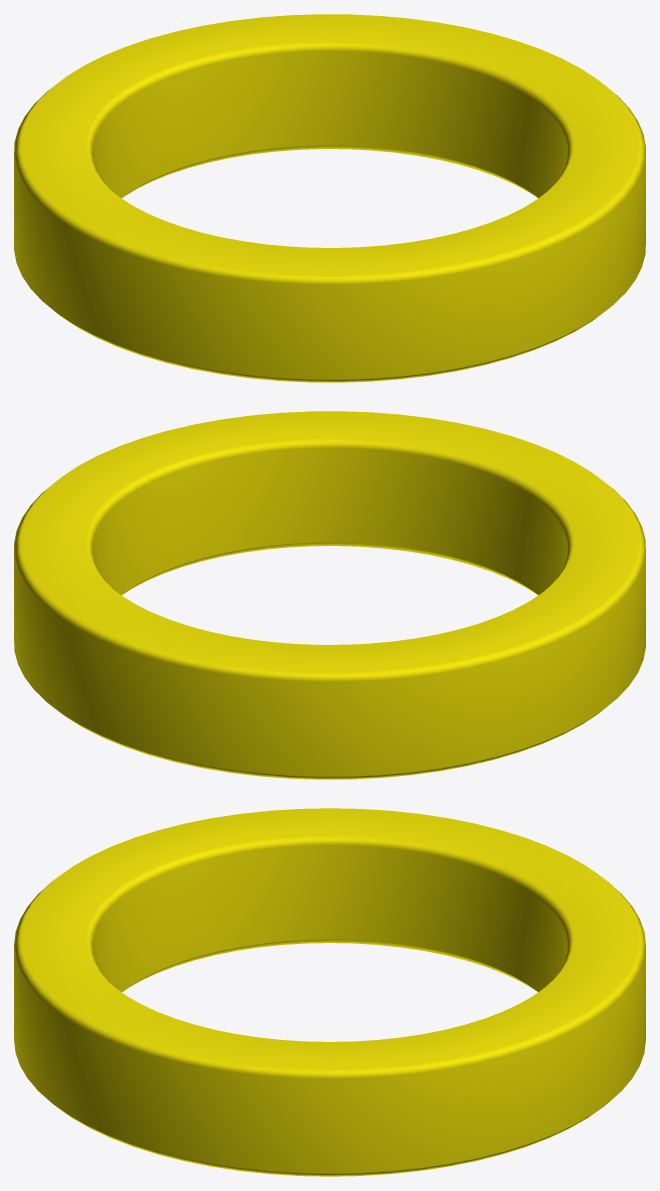
3 views of the same model, one above another, from view 1: azimuth 30°, elevation 25°; view 2: azimuth 150°, elevation 25°; view 3: azimuth 270°, elevation 25° (orthographic).
Visible parts, largest first — view 1: seal_body; view 2: seal_body; view 3: seal_body.
Boxes of the visible parts, x1,y1,x2,y2 form: seal_body: (14, 14, 645, 382); seal_body: (14, 411, 645, 779); seal_body: (14, 808, 645, 1176).
Size of the model in its own units: 0.0381 by 0.00714 by 0.0381.
